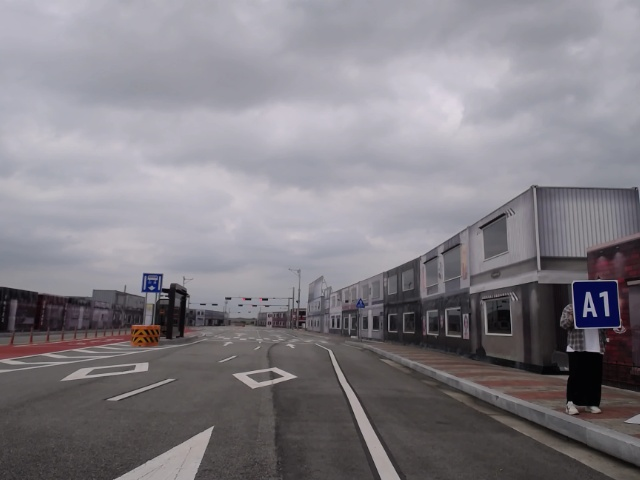delivery_a1: (571, 280, 621, 329)
